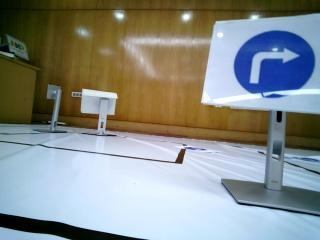right: (207, 20, 320, 111)
